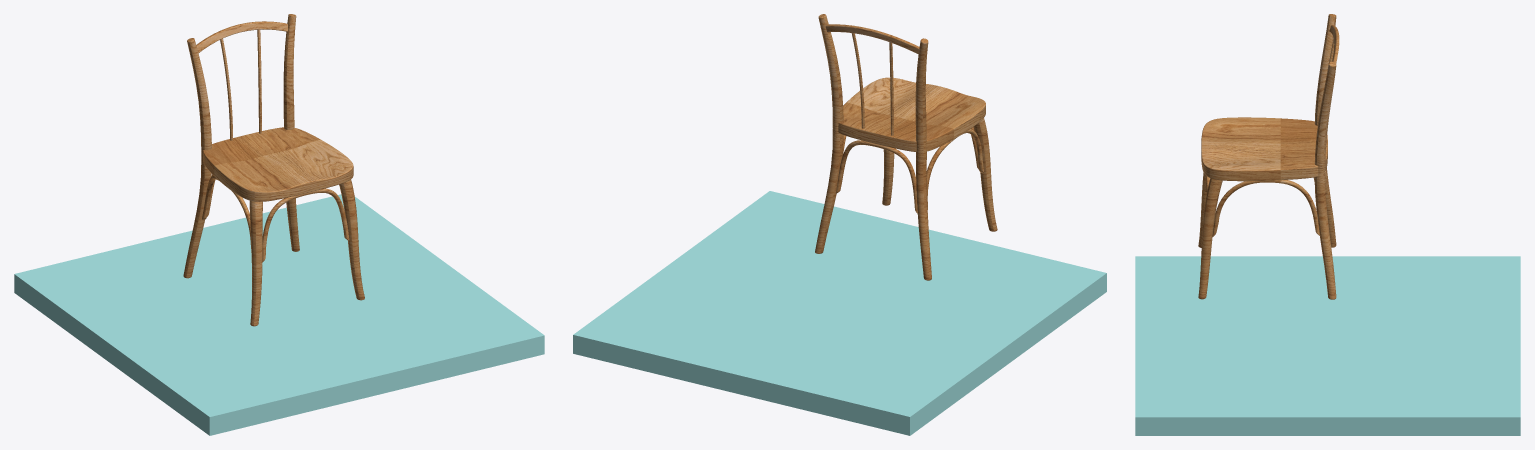
Rendered from silla.DAE.
3 views of the same model, side by side, from view 1: azimuth 30°, elevation 25°; view 2: azimuth 150°, elevation 25°; view 3: azimuth 270°, elevation 25° (orthographic). The views are drawn at different scales.
Parts seen in each view (by area): view 1: Box001, _1b3_cadei; view 2: Box001, _1b3_cadei; view 3: Box001, _1b3_cadei.
Part boxes in pixels (x1,y1,x2,y2): Box001: (14,194,544,435); _1b3_cadei: (183,14,364,326); Box001: (573,191,1106,435); _1b3_cadei: (815,14,997,280); Box001: (1135,256,1520,435); _1b3_cadei: (1198,14,1339,299).
Size of the model in its own units: 129 by 131 by 112.
Materials: 2 (1 with a texture image).
